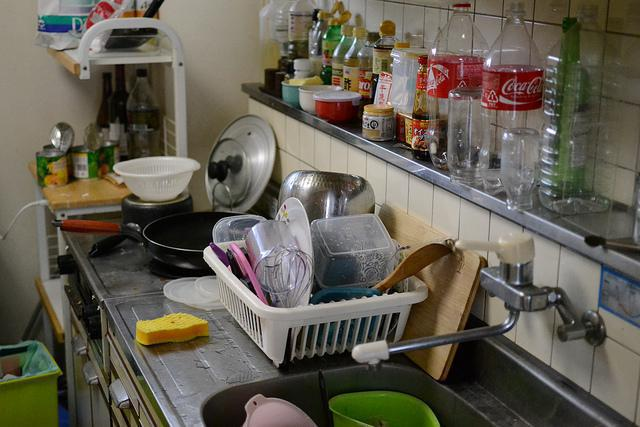Lavaplatos: (185, 215, 634, 426)
